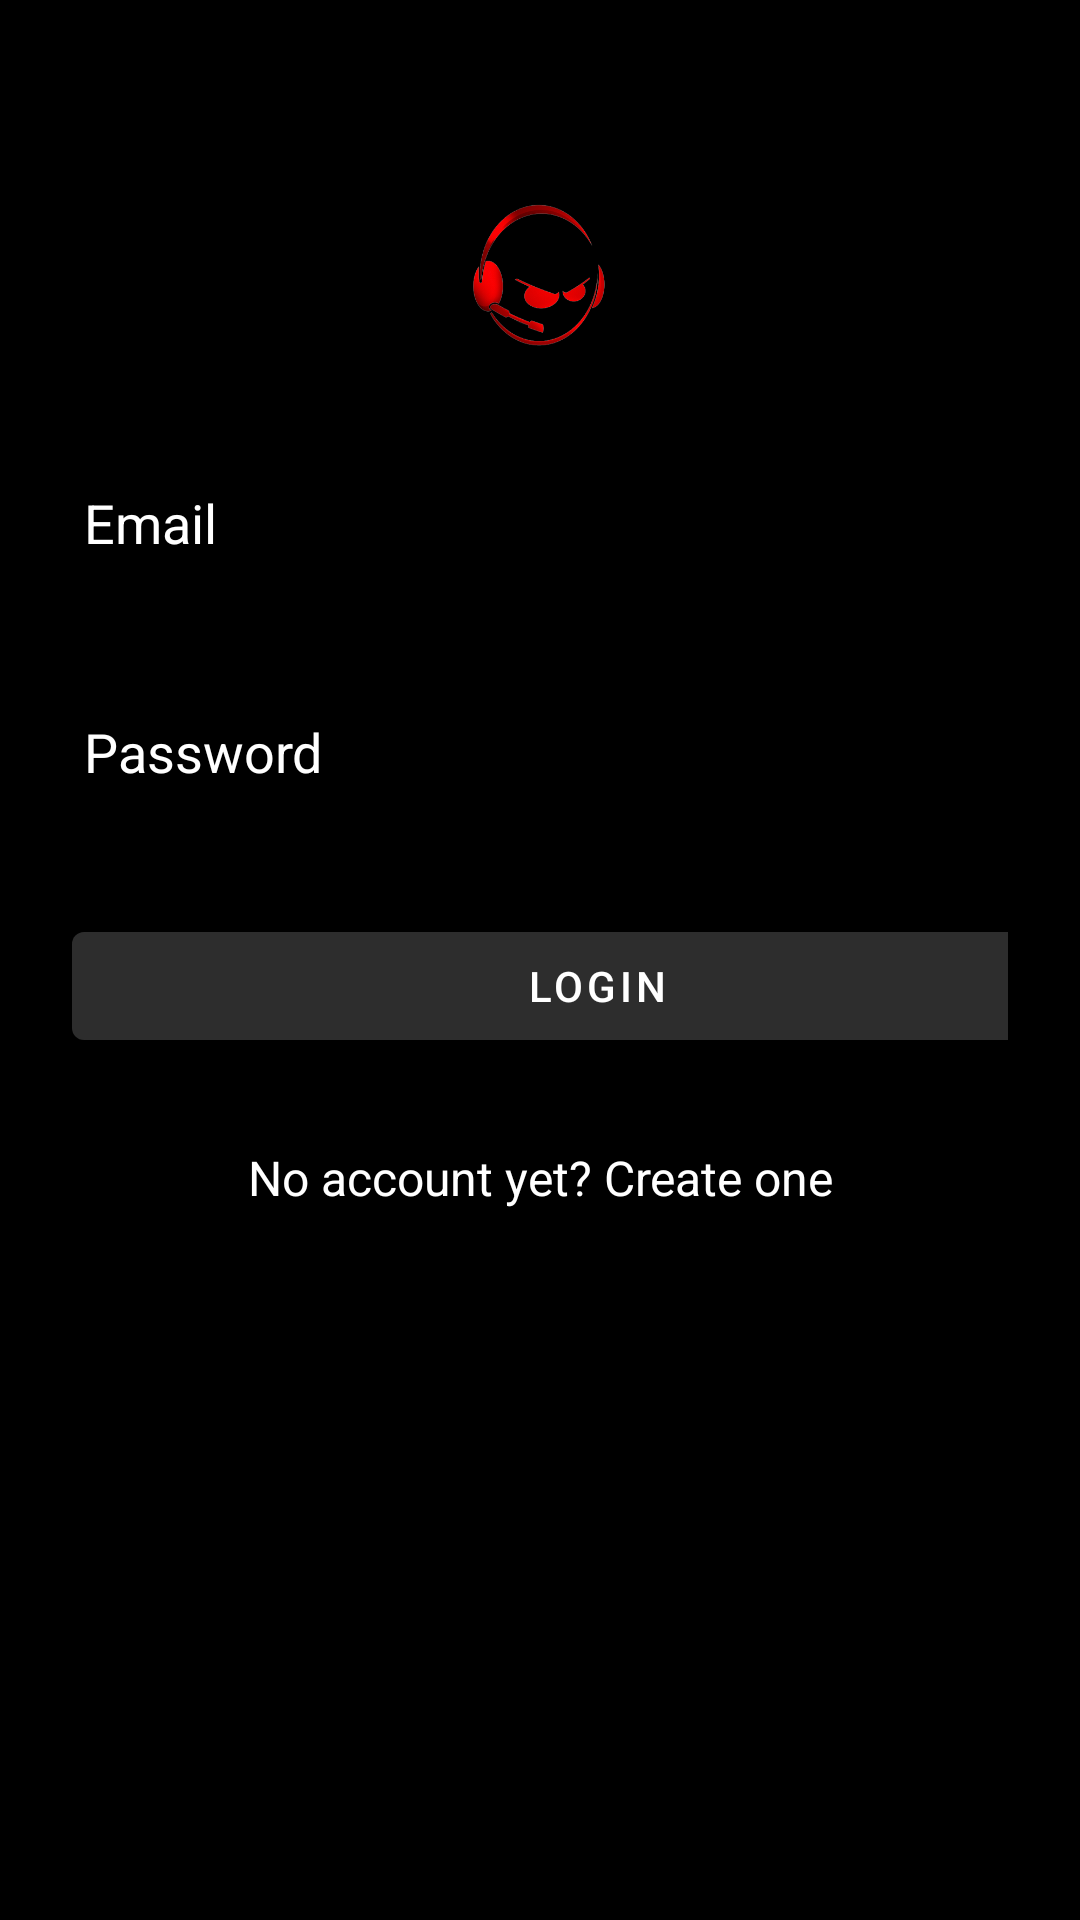

Icons on this 1080 × 1920 Android screen, each with the point to tap as (x,y):
gamerhead: (539,275)
